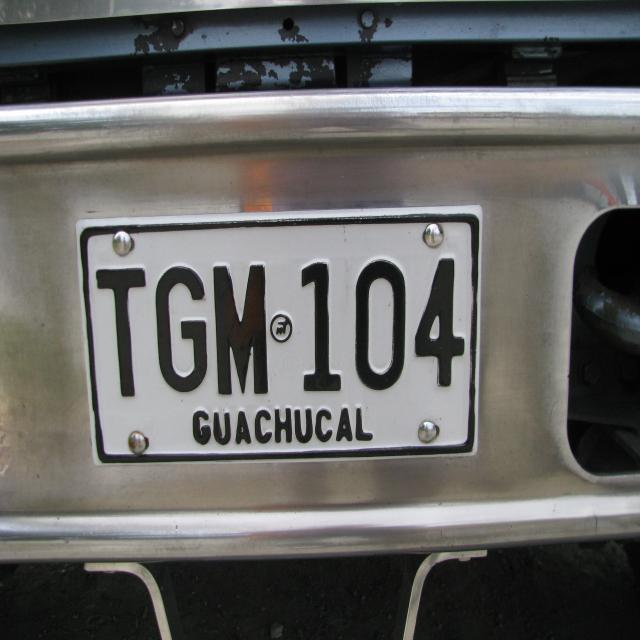placa: (73, 200, 485, 470)
